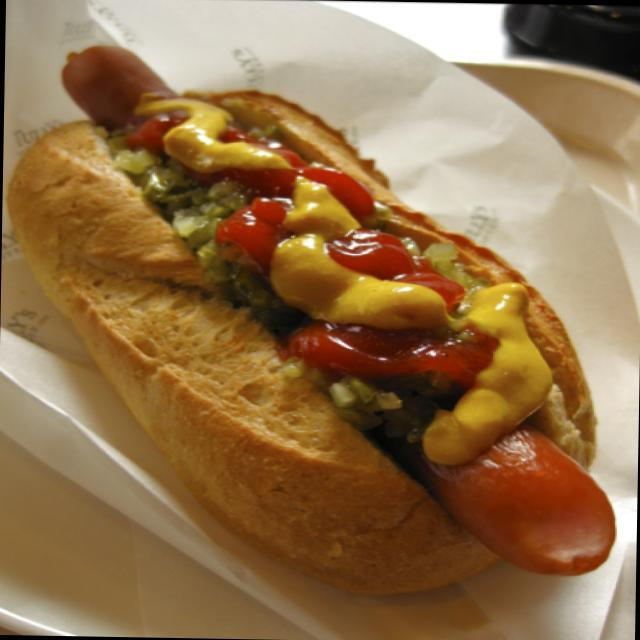Hot Dog: (0, 33, 624, 610)
